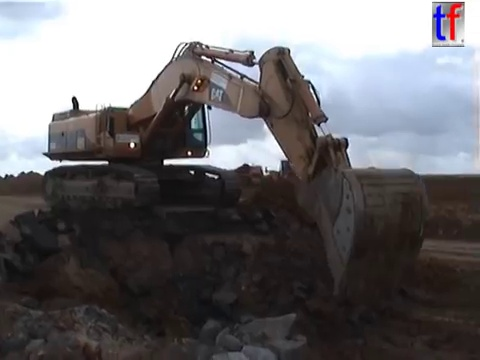excavator: (38, 38, 432, 303)
wheel loader: (235, 154, 325, 194)
